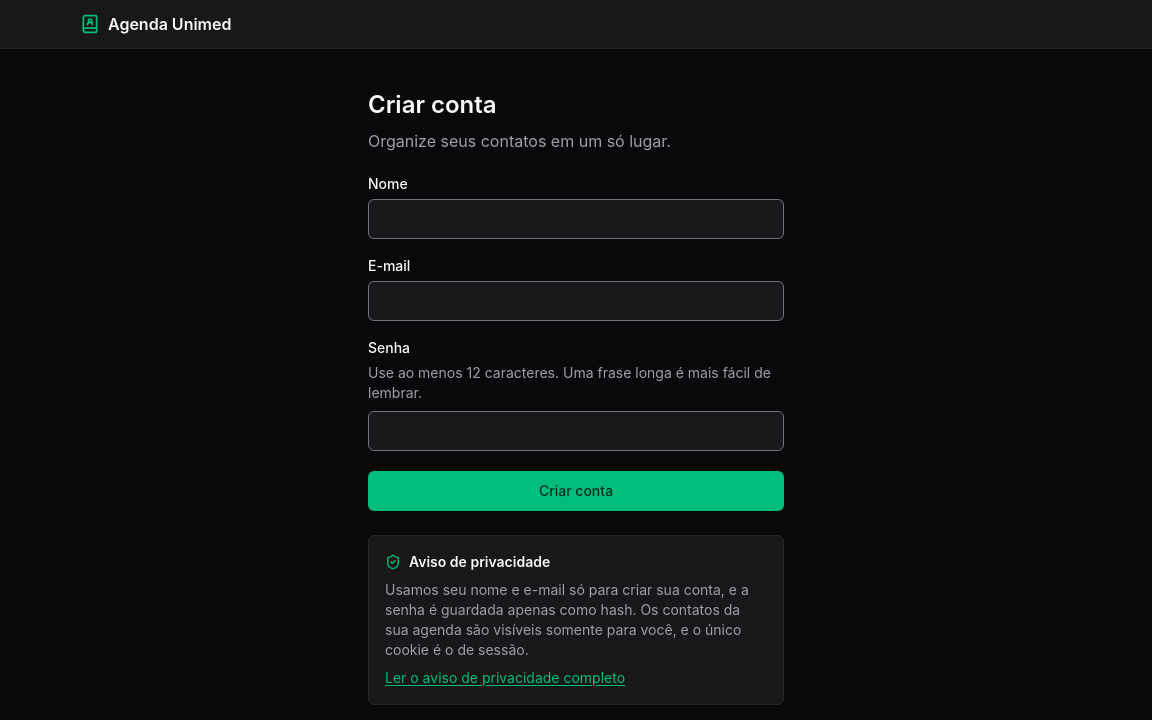
it: Criar conta (RF01) › mostra limite de tentativas sem detalhes técnicos
Step 1. Type "João" into the field labelled "Nome" → [576, 219], box [368,199,784,239]
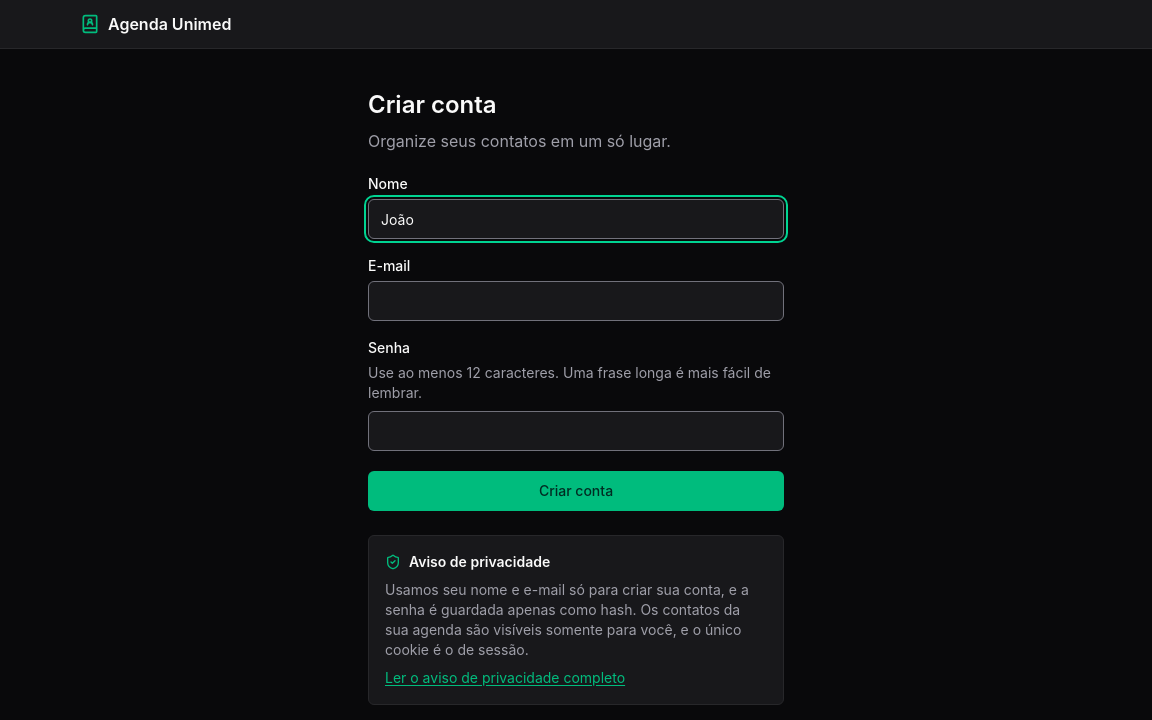
Step 2. Type "joao@empresa.com" into the field labelled "E-mail" → [576, 301], box [368,281,784,321]
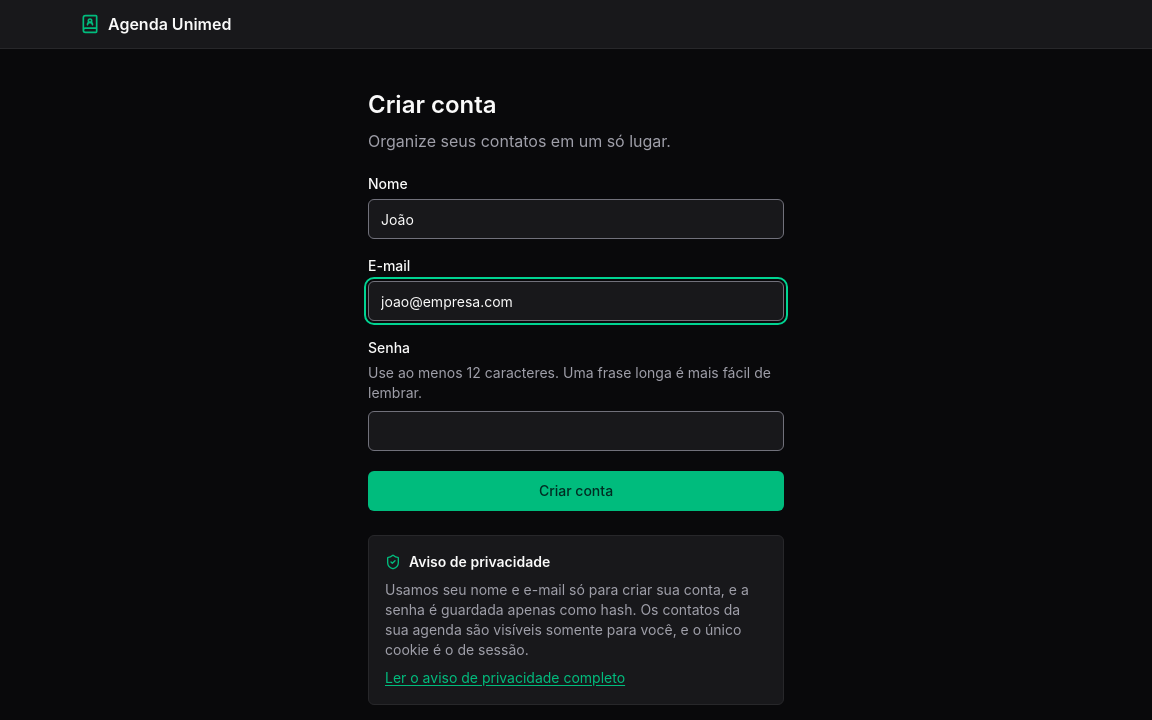
Step 3. Type "senha-segura-2026" into the password field labelled "Senha" → [576, 431], box [368,411,784,451]
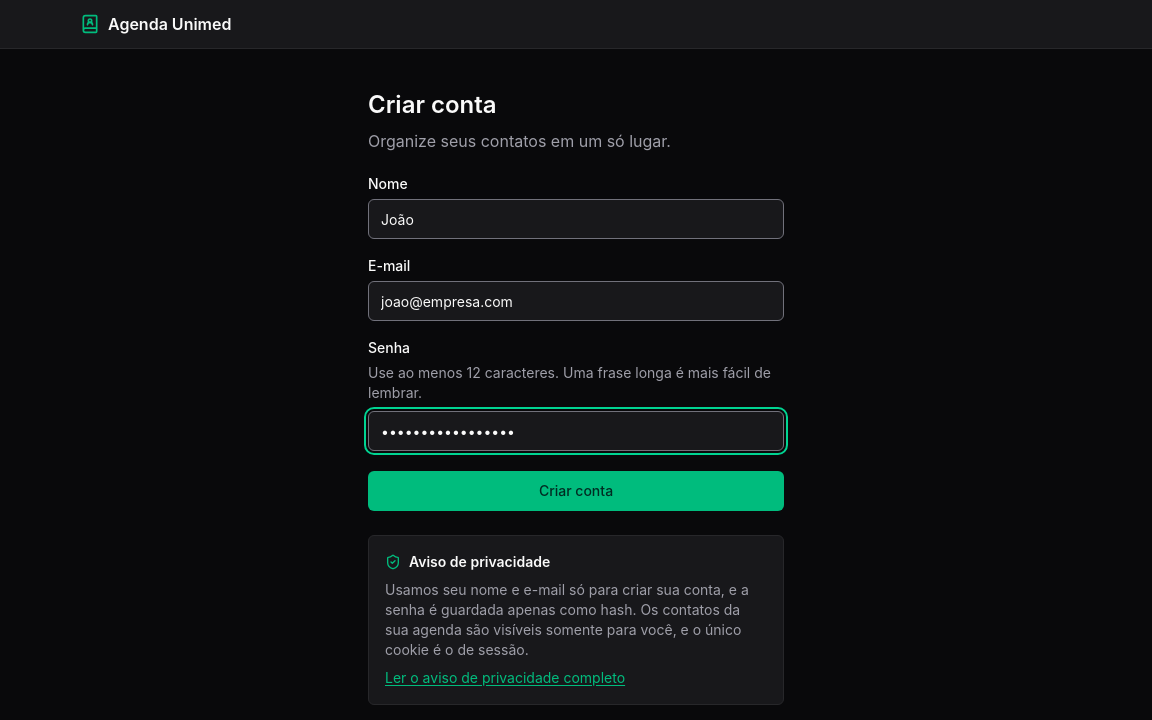
Step 4. Click the button "Criar conta" → [576, 491], box [368,471,784,511]
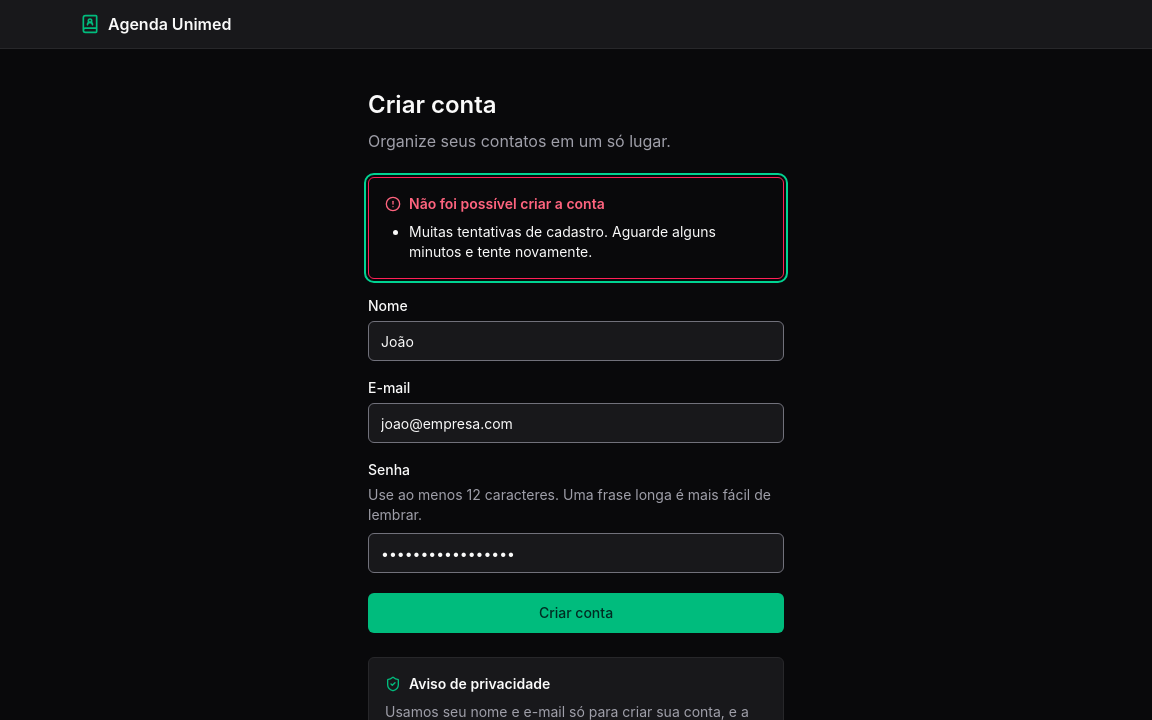
Expected: the message "Não foi possível criar a conta" shows "Muitas tentativas de cadastro. Aguarde alguns minutos e tente novamente.", [409,223,716,260]
